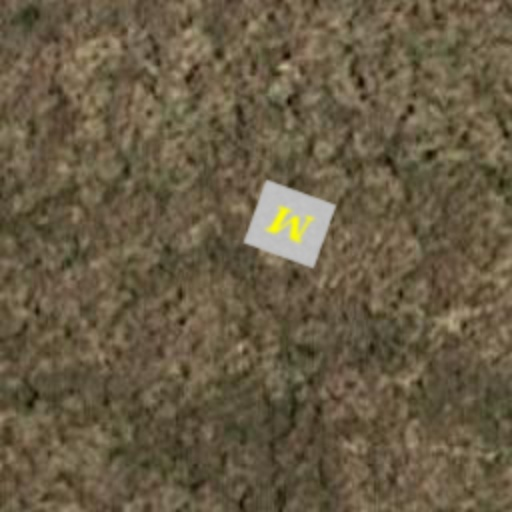rectangle: (242, 176, 338, 272)
